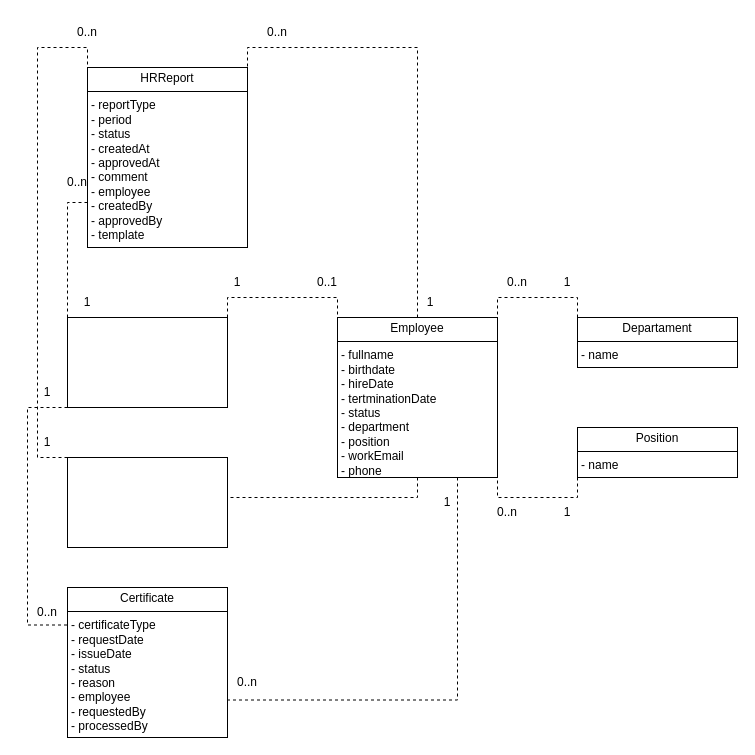
This 755x755 diagram has some shape labels left out. Here are the shapes that lost their labels. From the top down, the box of each, then its label:
(66, 316, 228, 408): User - fullname - role - login - isActive
(66, 456, 228, 548): ReportTemplate - name - fields - version - isActive
